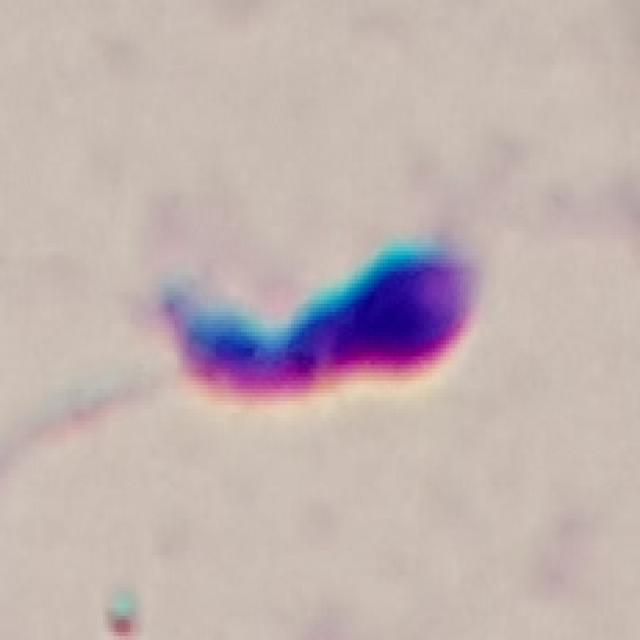abnormal sperm: (49, 234, 490, 432)
